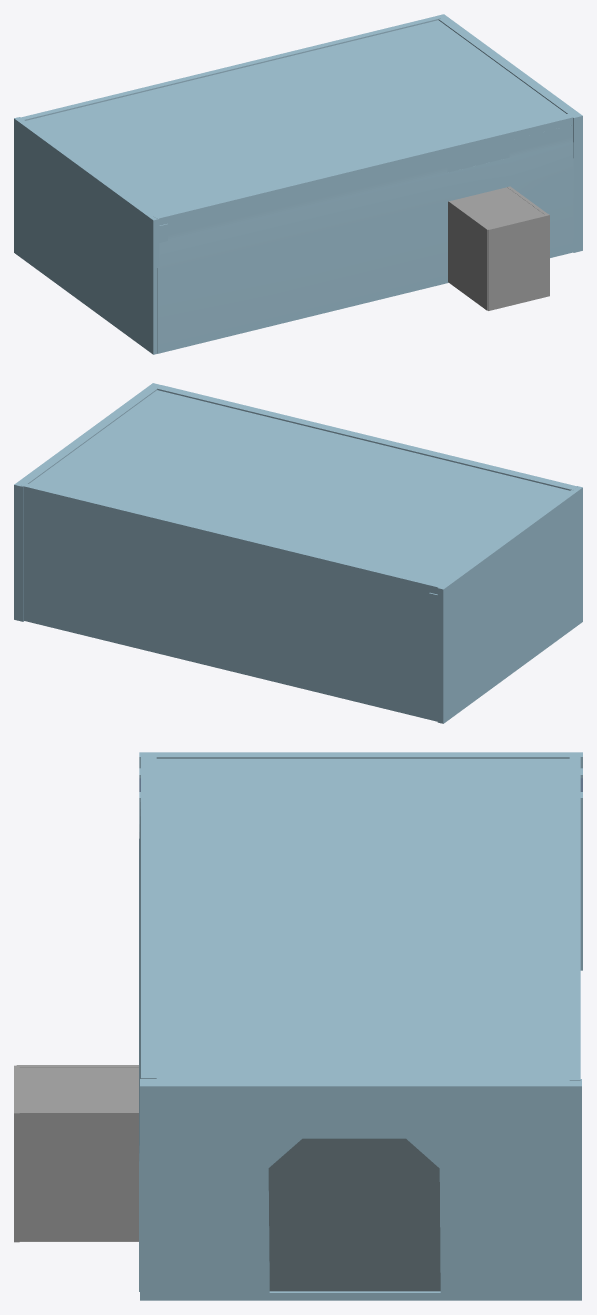
The model's file is GreenHouse_Week11.fbx.
3 views of the same model, one above another, from view 1: azimuth 30°, elevation 25°; view 2: azimuth 150°, elevation 25°; view 3: azimuth 270°, elevation 25° (orthographic). The views are drawn at different scales.
Parts seen in each view (by area): view 1: Floor1, BackWall3, BackWall, Wall3_Shed, Wall_Shed, Exit_Door_Wall, BackWall2, Ceiling_Shed; view 2: BackWall2, Floor1, BackWall, BackWall3, Exit_Door_Wall; view 3: Floor1, Exit_Door_Wall, Wall2_Shed, Exit_DoorL, Exit_DoorR, BackWall3, Ceiling_Shed, BackWall2, BackWall, Wall3_Shed.
Part boxes in pixels (bbox=[...]): Floor1: bbox=[26, 20, 566, 214]; BackWall3: bbox=[153, 114, 573, 353]; BackWall: bbox=[14, 117, 167, 354]; Wall3_Shed: bbox=[487, 214, 549, 310]; Wall_Shed: bbox=[448, 200, 489, 310]; Exit_Door_Wall: bbox=[437, 14, 582, 252]; BackWall2: bbox=[21, 16, 440, 120]; Ceiling_Shed: bbox=[452, 187, 543, 227]; BackWall2: bbox=[21, 483, 440, 721]; Floor1: bbox=[29, 390, 569, 584]; BackWall: bbox=[429, 486, 582, 723]; BackWall3: bbox=[157, 385, 577, 490]; Exit_Door_Wall: bbox=[14, 383, 161, 621]; Floor1: bbox=[156, 759, 569, 1078]; Exit_Door_Wall: bbox=[140, 1079, 581, 1300]; Wall2_Shed: bbox=[17, 1110, 138, 1241]; Exit_DoorL: bbox=[335, 1138, 440, 1291]; Exit_DoorR: bbox=[268, 1138, 360, 1291]; BackWall3: bbox=[139, 755, 156, 1291]; Ceiling_Shed: bbox=[19, 1068, 138, 1110]; BackWall2: bbox=[569, 753, 580, 1080]; BackWall: bbox=[139, 752, 582, 970]; Wall3_Shed: bbox=[14, 1065, 19, 1242].
Bounding box in the file's own units: 55.36 × 16.67 × 39.93.
